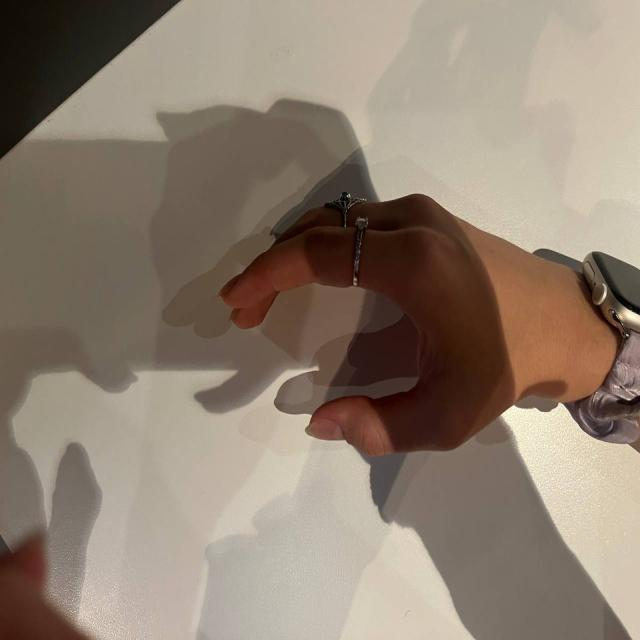s: (211, 173, 540, 500)
